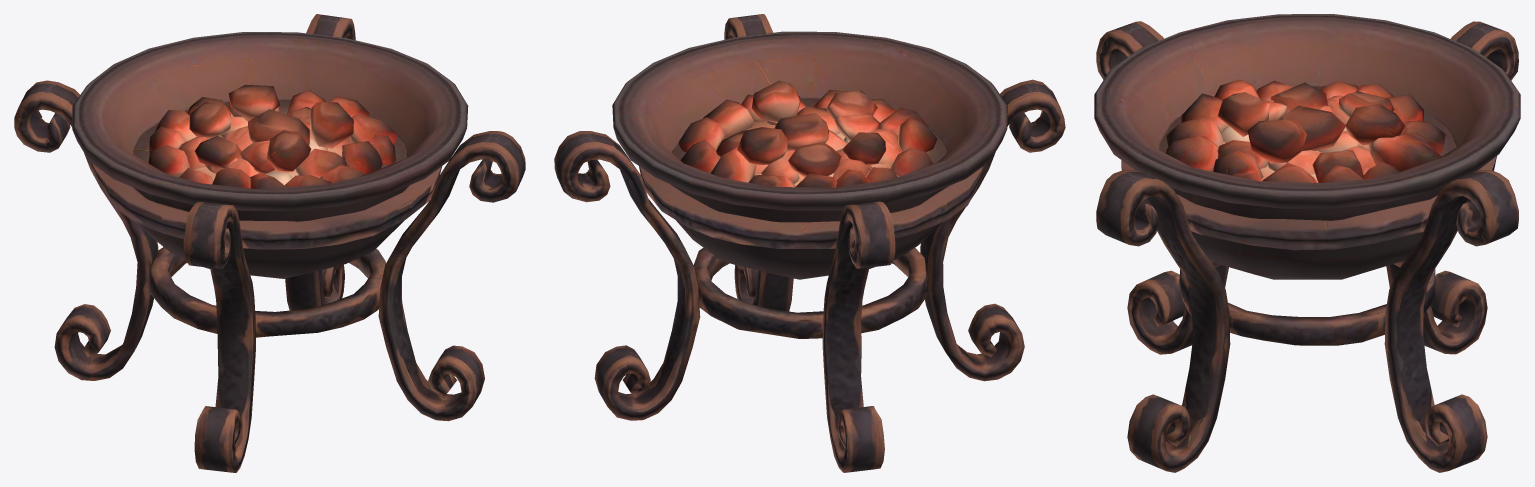
The model's file is light-brazier.glb.
3 views of the same model, side by side, from view 1: azimuth 30°, elevation 25°; view 2: azimuth 150°, elevation 25°; view 3: azimuth 270°, elevation 25° (orthographic). The views are drawn at different scales.
Bounding box in the file's own units: 1.26 × 1 × 1.25.
1 material, 1 textured.
